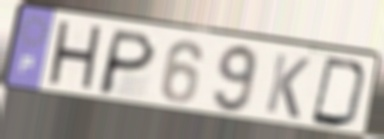6: (159, 39, 205, 105)
9: (211, 42, 260, 116)
D: (308, 54, 370, 131)
H: (44, 18, 105, 96)
K: (262, 51, 313, 122)
P: (94, 27, 159, 99)
